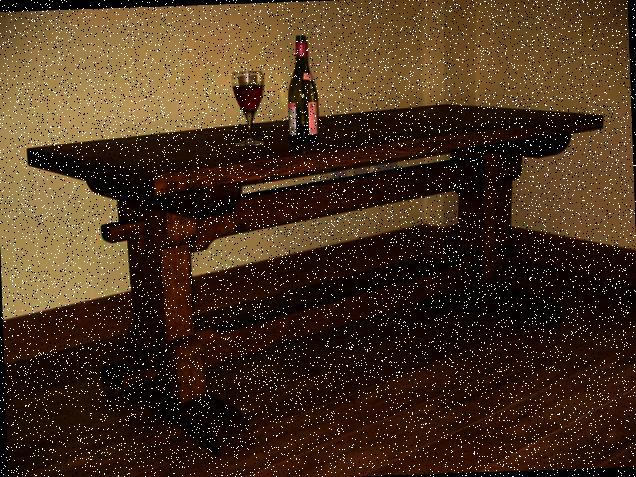Mesa: (21, 96, 614, 461)
